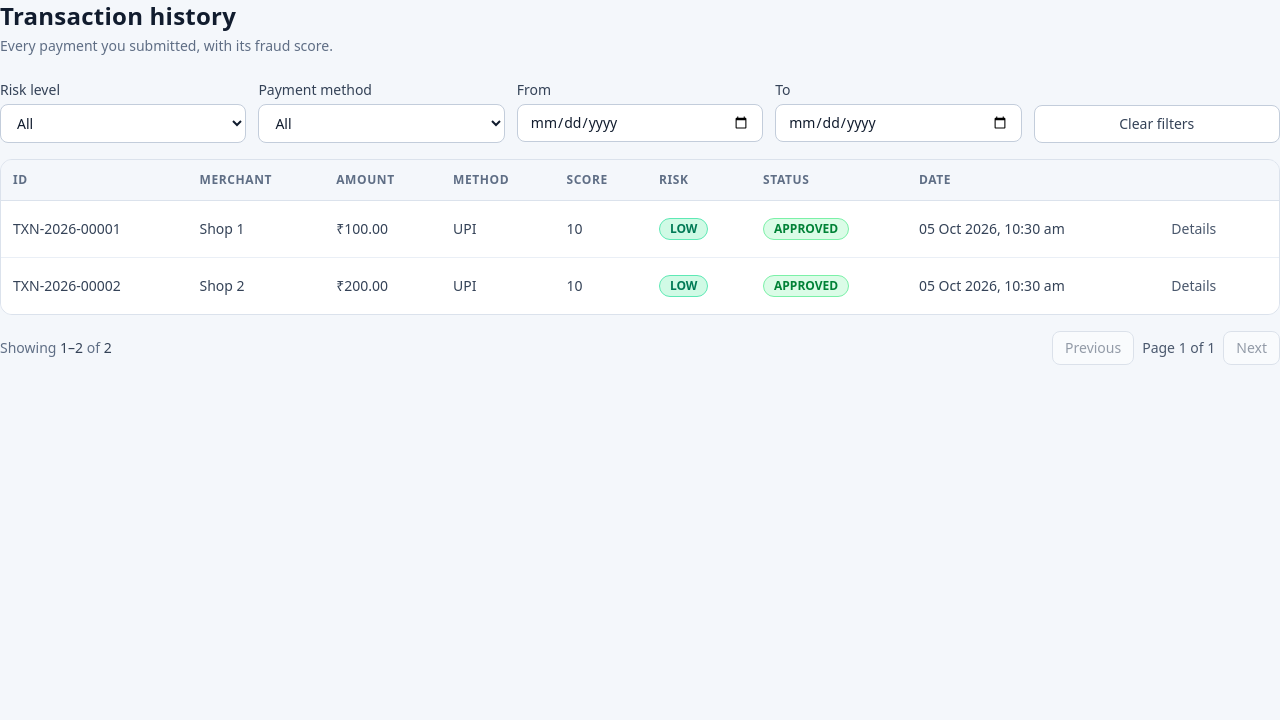
Test: TransactionHistory › opens the detail modal, loads the composite, and shows a failure inside it
The image size is (1280, 720).
Expected: the text "TXN-2026-00001" is shown, top-left (1, 200), bottom-right (188, 258)
Click the button "Details" in the row of "TXN-2026-00001": (1194, 229) top-left (1159, 213), bottom-right (1228, 245)
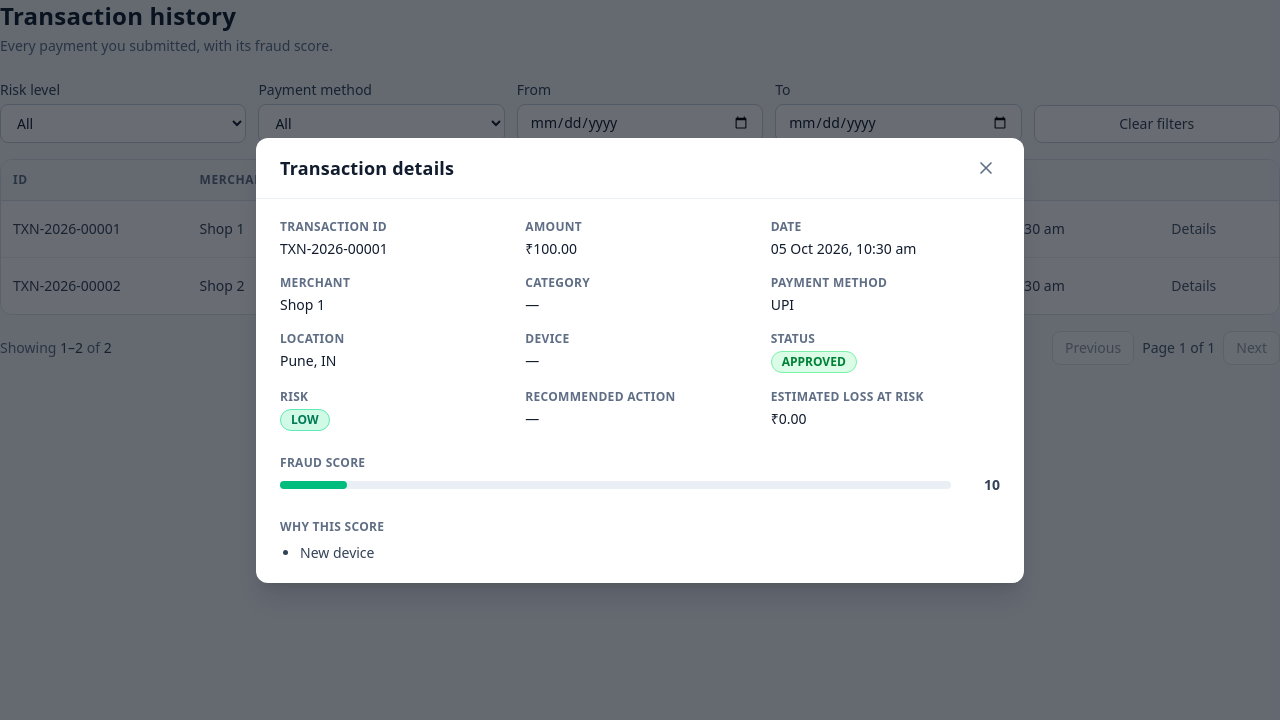
Now the list item "New device" is shown, box top-left (300, 542), bottom-right (374, 562)
Click the button named "Close dialog": (986, 168) top-left (972, 154), bottom-right (1000, 182)
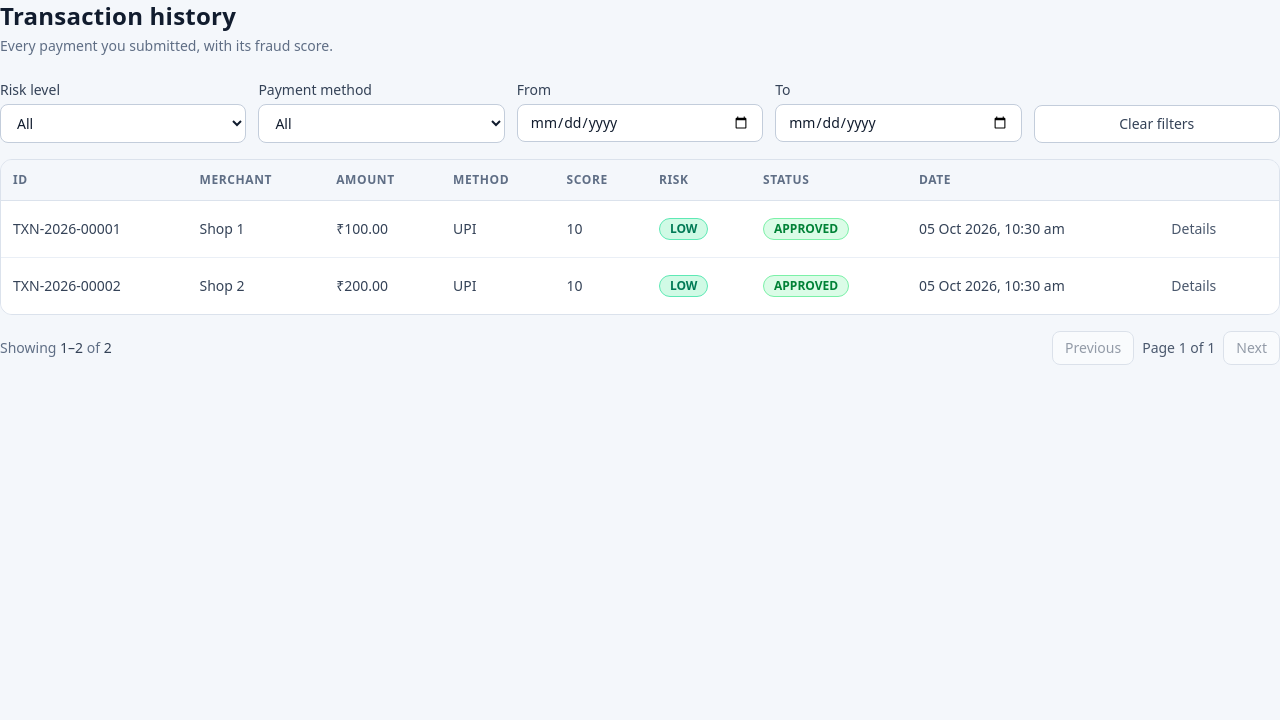
Now the dialog is gone
Click the button "Details" in the row of "TXN-2026-00002": (1194, 286) top-left (1159, 270), bottom-right (1228, 302)
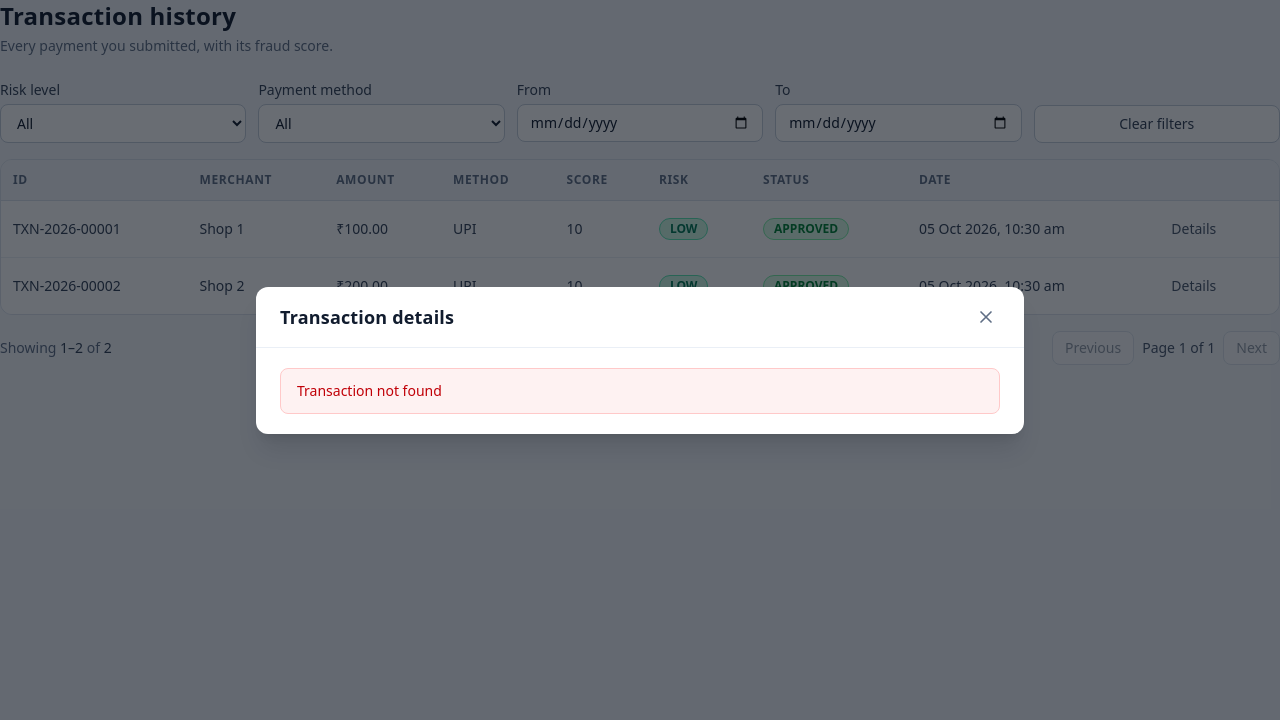
Now the text "Transaction not found" is shown, box top-left (280, 368), bottom-right (1000, 414)
